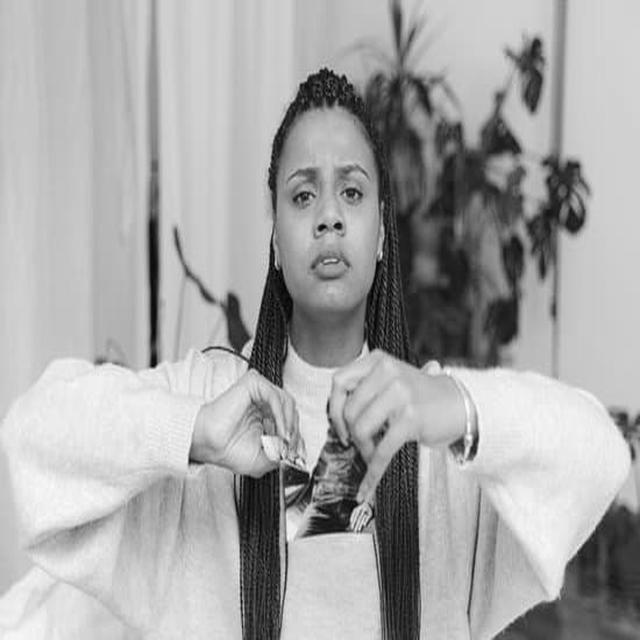Sadness: (279, 108, 378, 319)
